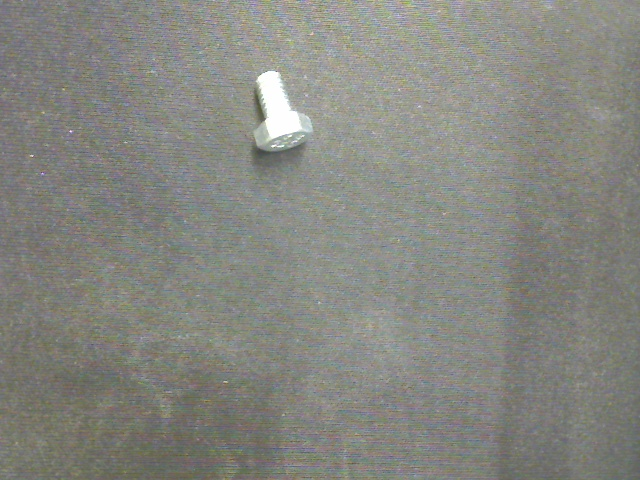screw: (253, 70, 313, 153)
